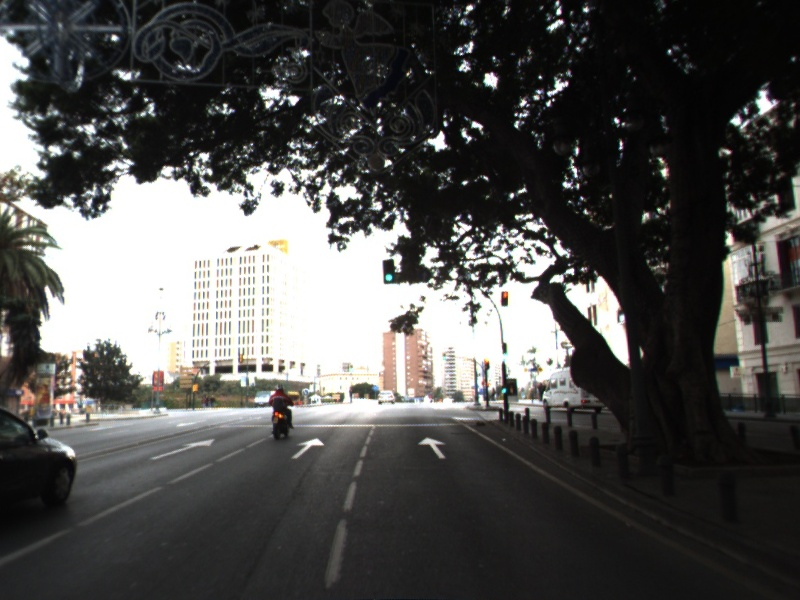STRAIGHT: (148, 436, 219, 462), (289, 435, 327, 461), (415, 435, 450, 461)
